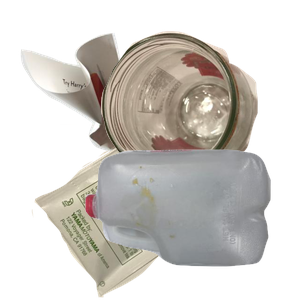glass: (98, 29, 300, 198)
paper: (18, 30, 213, 210)
plastic: (83, 147, 300, 300)
trash: (29, 124, 238, 300)
